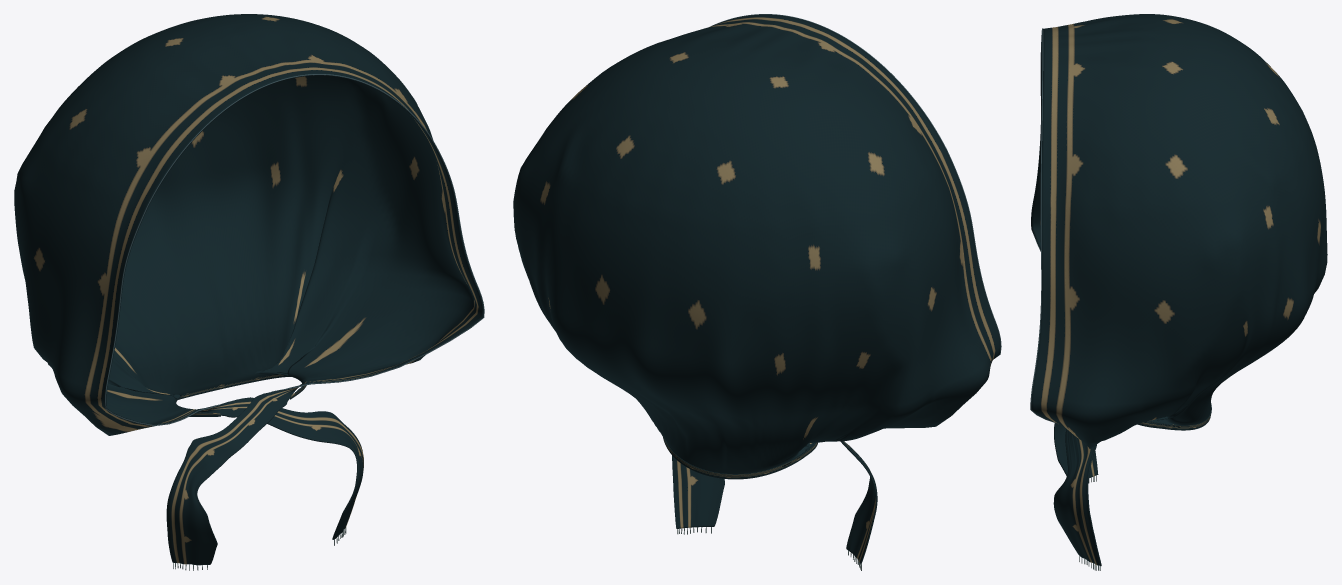
Rendered from Feminine-twin-braids-open-pashmina249-headgear.glb.
3 views of the same model, side by side, from view 1: azimuth 30°, elevation 25°; view 2: azimuth 150°, elevation 25°; view 3: azimuth 270°, elevation 25° (orthographic). The views are drawn at different scales.
Visible parts, largest first — view 1: 226 headgear / Headwear / continuous woven pashmina239, 226 headgear / Headwear / face edge239; view 2: 226 headgear / Headwear / continuous woven pashmina239, 226 headgear / Headwear / face edge239; view 3: 226 headgear / Headwear / continuous woven pashmina239, 226 headgear / Headwear / face edge239.
Part boxes in pixels (<box>): 226 headgear / Headwear / continuous woven pashmina239: <box>14,14,483,565</box>; 226 headgear / Headwear / face edge239: <box>105,74,484,425</box>; 226 headgear / Headwear / continuous woven pashmina239: <box>513,14,1000,564</box>; 226 headgear / Headwear / face edge239: <box>710,14,1001,359</box>; 226 headgear / Headwear / continuous woven pashmina239: <box>1031,14,1327,566</box>; 226 headgear / Headwear / face edge239: <box>1030,28,1056,423</box>.
Size of the model in its own units: 1.15 by 1.36 by 0.7433.
3 materials, 1 textured.
